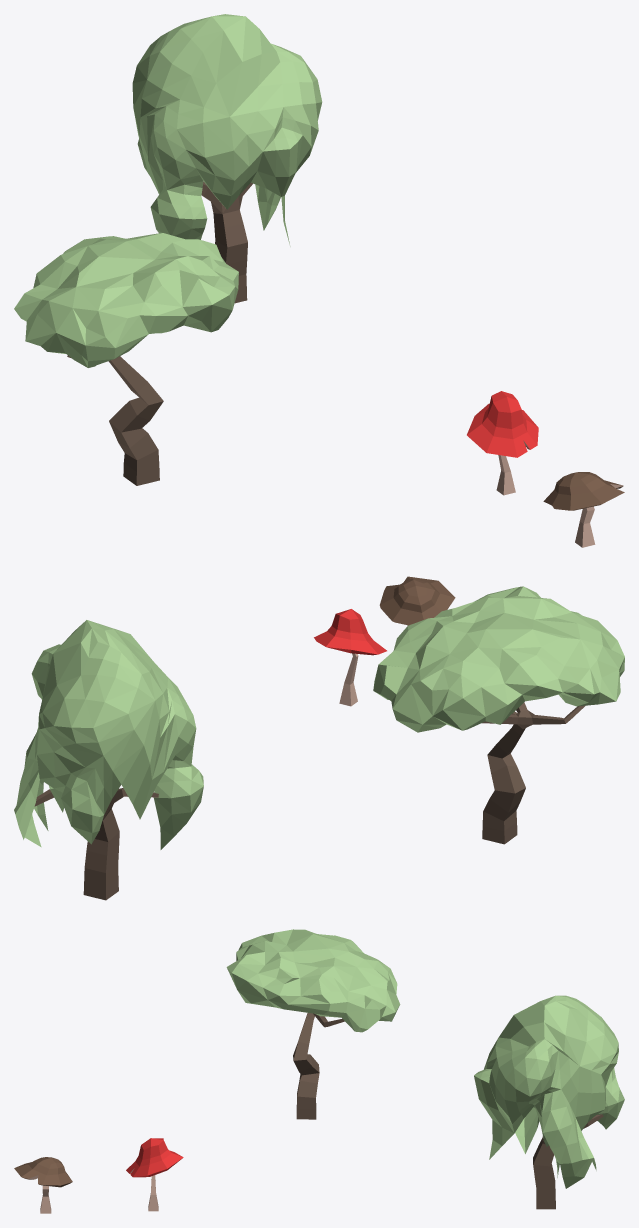
Rendered from BotanySet.fbx.
The picture shows the model from 3 angles, top to bottom: view 1: azimuth 30°, elevation 25°; view 2: azimuth 150°, elevation 25°; view 3: azimuth 270°, elevation 25°; orthographic projection. The views are drawn at different scales.
Parts seen in each view (by area): view 1: WillowLOD0, AcaciaLOD0, ShroomRedLOD0, ShroomGreyLOD0; view 2: WillowLOD0, AcaciaLOD0, ShroomGreyLOD0, ShroomRedLOD0; view 3: WillowLOD0, AcaciaLOD0, ShroomRedLOD0, ShroomGreyLOD0.
Part boxes in pixels (x1,y1,x2,y2): WillowLOD0: (132,14,322,303); AcaciaLOD0: (14,233,238,485); ShroomRedLOD0: (467,391,538,495); ShroomGreyLOD0: (543,472,624,547); WillowLOD0: (14,620,203,900); AcaciaLOD0: (373,586,624,844); ShroomGreyLOD0: (379,576,455,625); ShroomRedLOD0: (314,609,386,706); WillowLOD0: (474,995,624,1209); AcaciaLOD0: (226,929,400,1119); ShroomRedLOD0: (126,1138,183,1211); ShroomGreyLOD0: (14,1157,72,1213).
Size of what is drawn, in the model's own units: 13.1 by 7.85 by 21.1.
